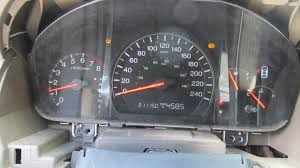Digital_Meter: (131, 98, 192, 111)
